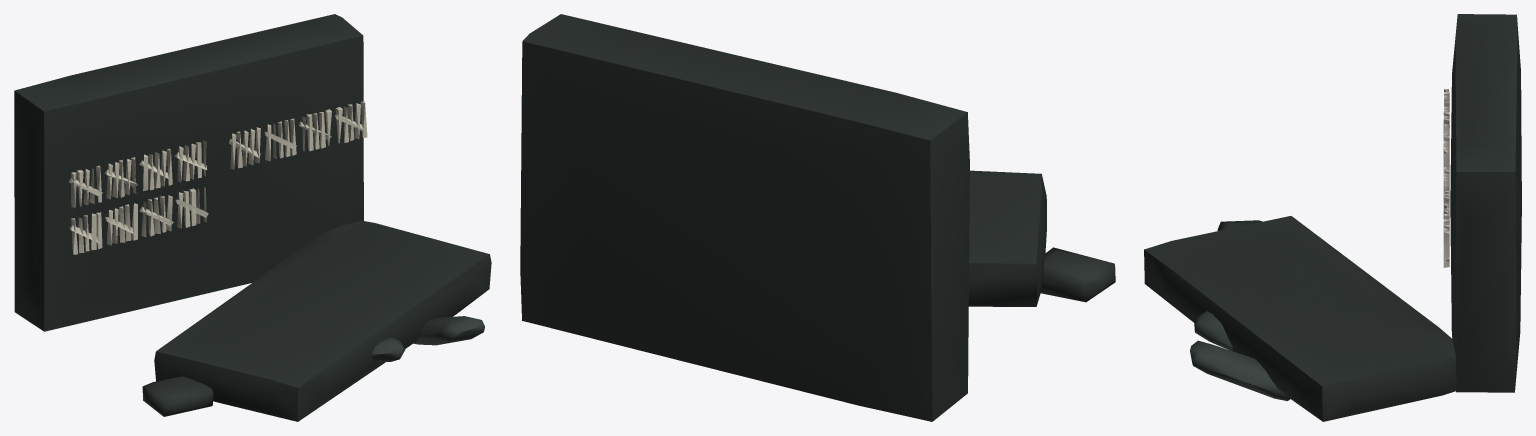
Rendered from tally_slab_c_lod1.glb.
3 renders of one model, left to right at view 1: azimuth 30°, elevation 25°; view 2: azimuth 150°, elevation 25°; view 3: azimuth 270°, elevation 25°, orthographic. The views are drawn at different scales.
Parts seen in each view (by area): view 1: Surface.001; view 2: Surface.001; view 3: Surface.001.
Part boxes in pixels (box(x1,y1,x2,y2)): Surface.001: box(14, 14, 491, 421); Surface.001: box(520, 14, 1115, 421); Surface.001: box(1144, 14, 1521, 421).
Bounding box in the file's own units: 1.75 × 1.04 × 1.48.
